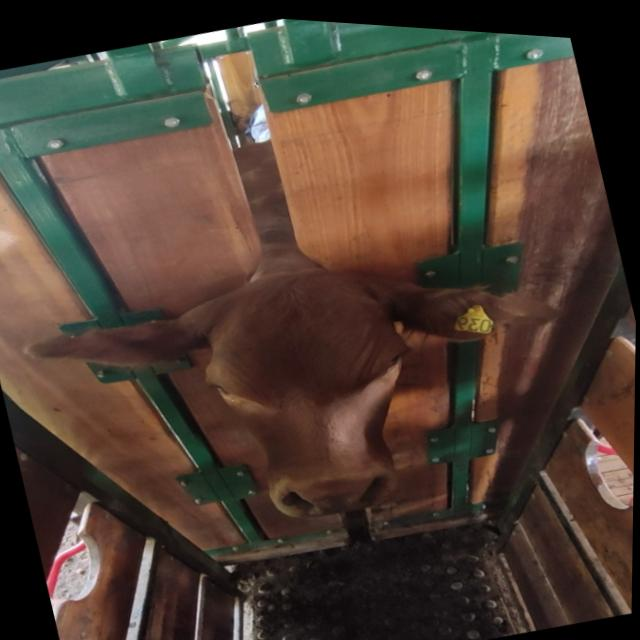cowFace: (184, 240, 448, 536)
